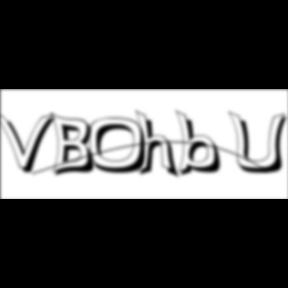B: (51, 111, 101, 179)
O: (88, 117, 154, 176)
V: (1, 110, 60, 176)
b: (176, 109, 228, 179)
h: (136, 108, 182, 182)
